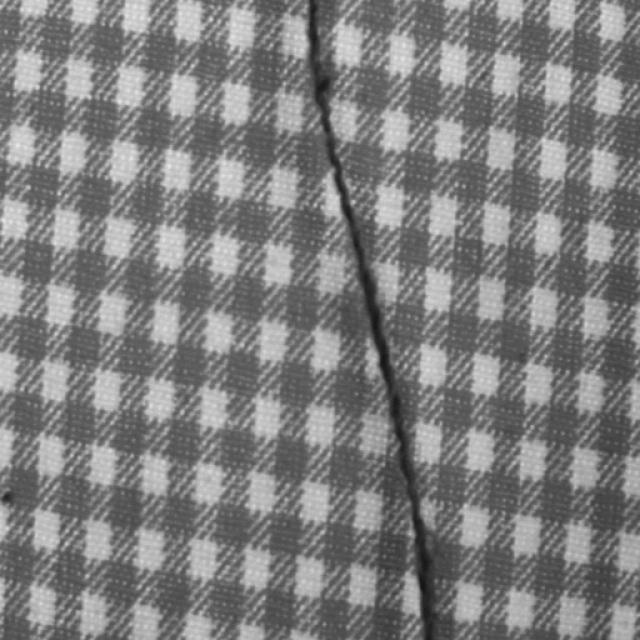Foreign-Body-Defect: (299, 4, 440, 639)
